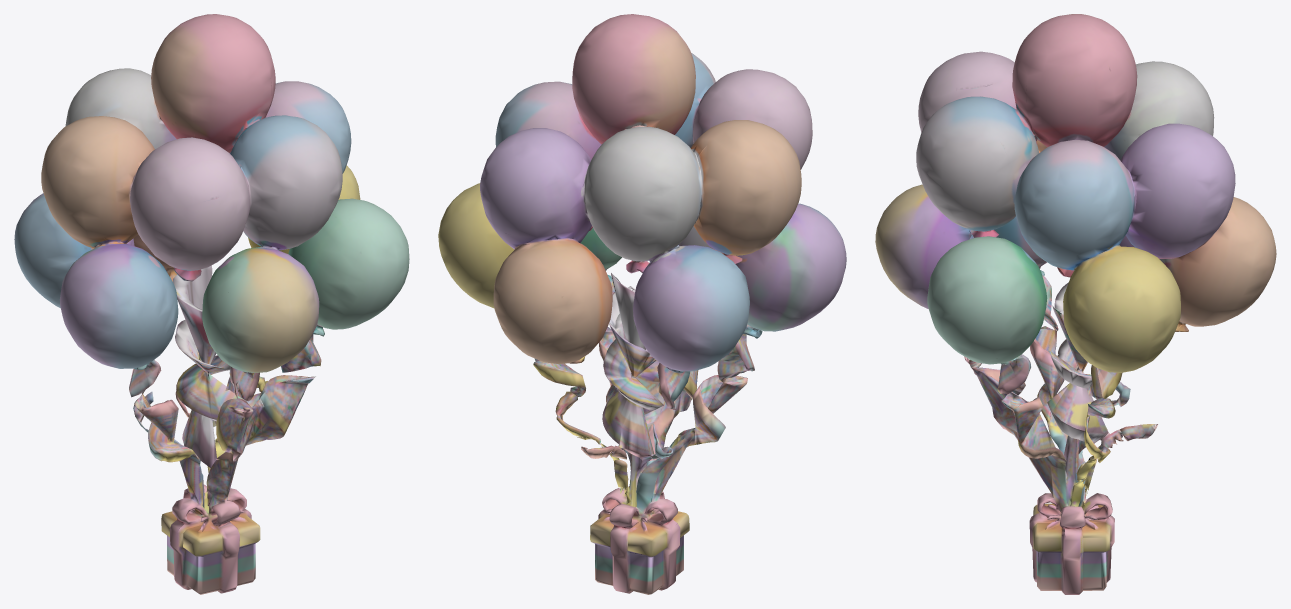
3 renders of one model, left to right at view 1: azimuth 30°, elevation 25°; view 2: azimuth 150°, elevation 25°; view 3: azimuth 270°, elevation 25°, orthographic.
Parts seen in each view (by area): view 1: repaired; view 2: repaired; view 3: repaired.
Part boxes in pixels (x1=…): repaired: x1=14, y1=14, x2=409, y2=594; repaired: x1=438, y1=14, x2=846, y2=594; repaired: x1=875, y1=14, x2=1276, y2=594.
Bounding box in the file's own units: 0.6301 × 0.9998 × 0.644.
Materials: 1 (1 with a texture image).
